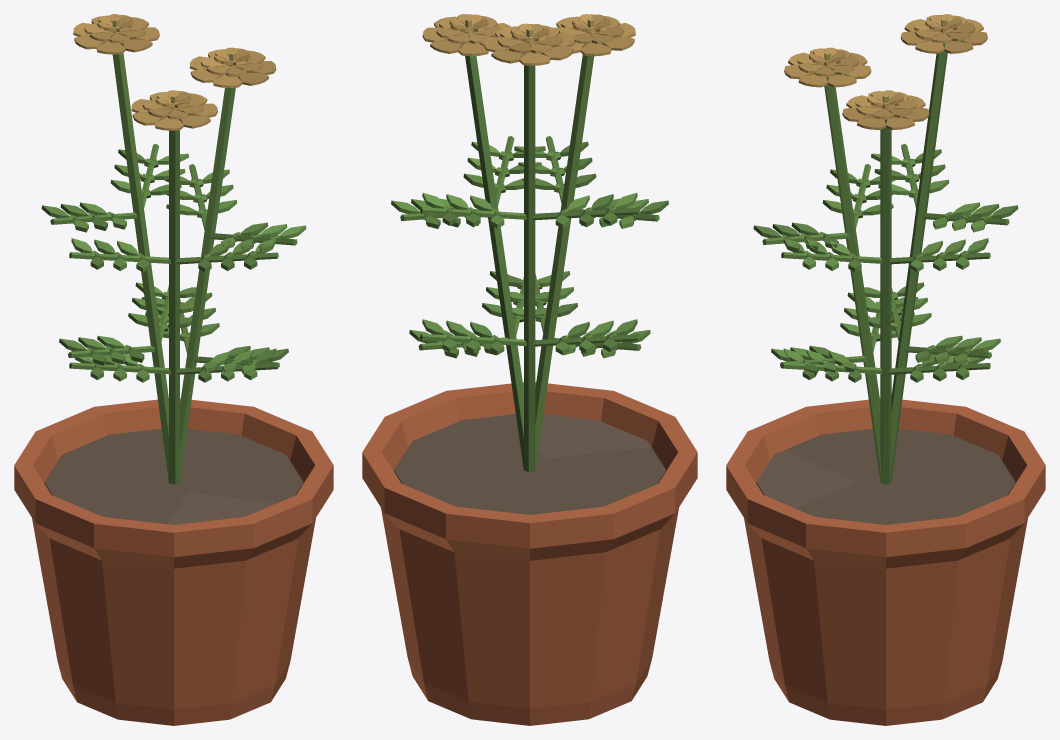
Rendered from marigold.glb.
3 views of the same model, side by side, from view 1: azimuth 30°, elevation 25°; view 2: azimuth 150°, elevation 25°; view 3: azimuth 270°, elevation 25° (orthographic). The views are drawn at different scales.
Visible parts, largest first — view 1: marigold/review-terra-vessel, marigold/review-rooted-soil, marigold/petiole-077, marigold/petiole-153, marigold/petiole-001, marigold/petiole-180, marigold/petiole-154, marigold/petiole-193; view 2: marigold/review-terra-vessel, marigold/review-rooted-soil, marigold/petiole-077, marigold/petiole-153, marigold/petiole-001, marigold/petiole-104, marigold/petiole-078, marigold/petiole-091, marigold/petiole-117; view 3: marigold/review-terra-vessel, marigold/review-rooted-soil, marigold/petiole-077, marigold/petiole-001, marigold/petiole-153, marigold/petiole-028, marigold/petiole-041, marigold/petiole-015.
Boxes of the visible parts, x1,y1,x2,y2 form: marigold/review-terra-vessel: [14, 398, 333, 725]; marigold/review-rooted-soil: [44, 428, 303, 524]; marigold/petiole-077: [112, 44, 168, 482]; marigold/petiole-153: [169, 119, 179, 484]; marigold/petiole-001: [179, 87, 235, 482]; marigold/petiole-180: [69, 252, 171, 263]; marigold/petiole-154: [69, 362, 171, 374]; marigold/petiole-193: [176, 252, 278, 264]; marigold/review-terra-vessel: [362, 382, 697, 725]; marigold/review-rooted-soil: [394, 414, 665, 514]; marigold/petiole-077: [524, 54, 535, 472]; marigold/petiole-153: [535, 45, 594, 469]; marigold/petiole-001: [465, 56, 524, 470]; marigold/petiole-104: [420, 207, 526, 219]; marigold/petiole-078: [420, 333, 526, 346]; marigold/petiole-091: [532, 334, 639, 346]; marigold/petiole-117: [532, 208, 639, 220]; marigold/review-terra-vessel: [726, 398, 1045, 725]; marigold/review-rooted-soil: [756, 428, 1015, 524]; marigold/petiole-077: [889, 43, 947, 482]; marigold/petiole-001: [880, 119, 891, 483]; marigold/petiole-153: [824, 76, 882, 482]; marigold/petiole-028: [781, 252, 882, 263]; marigold/petiole-041: [889, 252, 990, 264]; marigold/petiole-015: [889, 363, 990, 374].
Bounding box in the file's own units: 0.19 × 0.423 × 0.19.
Materials: 5 (5 with a texture image).
